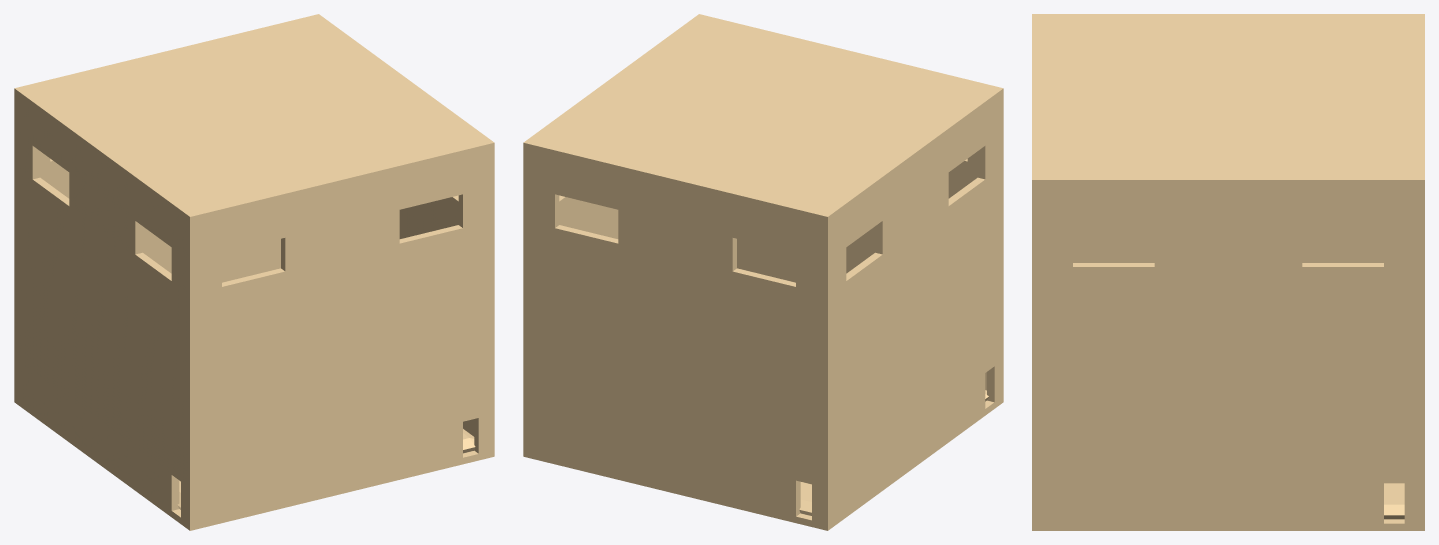
File: Factory.fbx
3 renders of one model, left to right at view 1: azimuth 30°, elevation 25°; view 2: azimuth 150°, elevation 25°; view 3: azimuth 270°, elevation 25°, orthographic. The views are drawn at different scales.
Visible parts, largest first — view 1: Factory; view 2: Factory; view 3: Factory.
Boxes of the visible parts, <box> form: Factory: <box>14,14,494,530</box>; Factory: <box>523,14,1003,530</box>; Factory: <box>1032,14,1424,530</box>.
Size of the model in its own units: 68.59 by 67.59 by 68.59.
